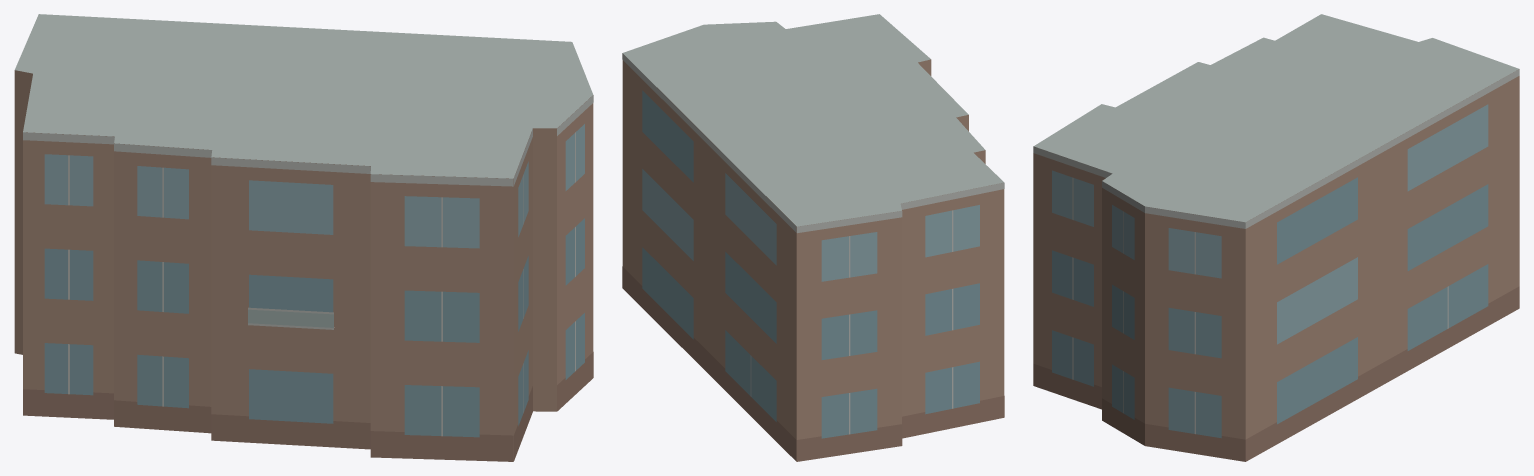
The model's file is survey-upis-33043582.glb.
3 renders of one model, left to right at view 1: azimuth 30°, elevation 25°; view 2: azimuth 150°, elevation 25°; view 3: azimuth 270°, elevation 25°, orthographic. The views are drawn at different scales.
Visible parts, largest first — view 1: survey-upis-33043582.tmp; view 2: survey-upis-33043582.tmp; view 3: survey-upis-33043582.tmp.
Part boxes in pixels (x1,y1,x2,y2): survey-upis-33043582.tmp: (14, 14, 593, 461); survey-upis-33043582.tmp: (622, 14, 1004, 461); survey-upis-33043582.tmp: (1033, 14, 1519, 461).
Size of the model in its own units: 16.23 by 8.7 by 16.01.
